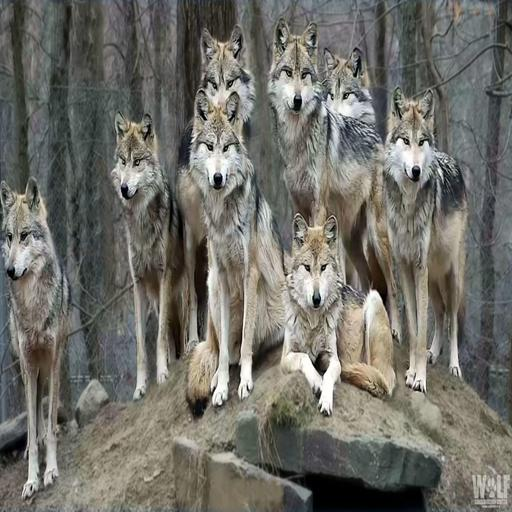Wolf: (269, 19, 413, 400), (186, 15, 312, 408), (165, 86, 303, 408), (300, 39, 432, 366), (376, 86, 478, 446), (109, 98, 205, 416), (272, 213, 409, 430), (0, 169, 78, 500), (271, 213, 353, 426)
